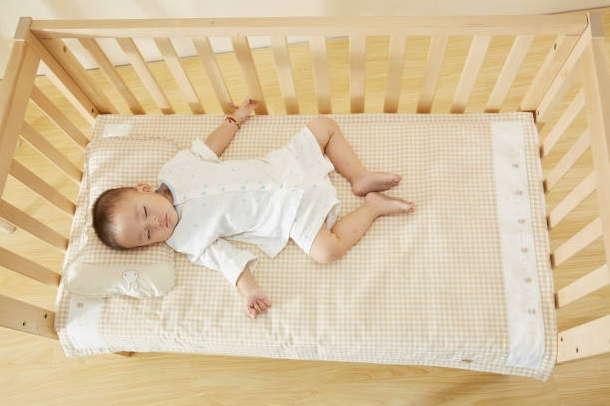baby: (93, 99, 414, 316)
crib: (0, 13, 609, 361)
